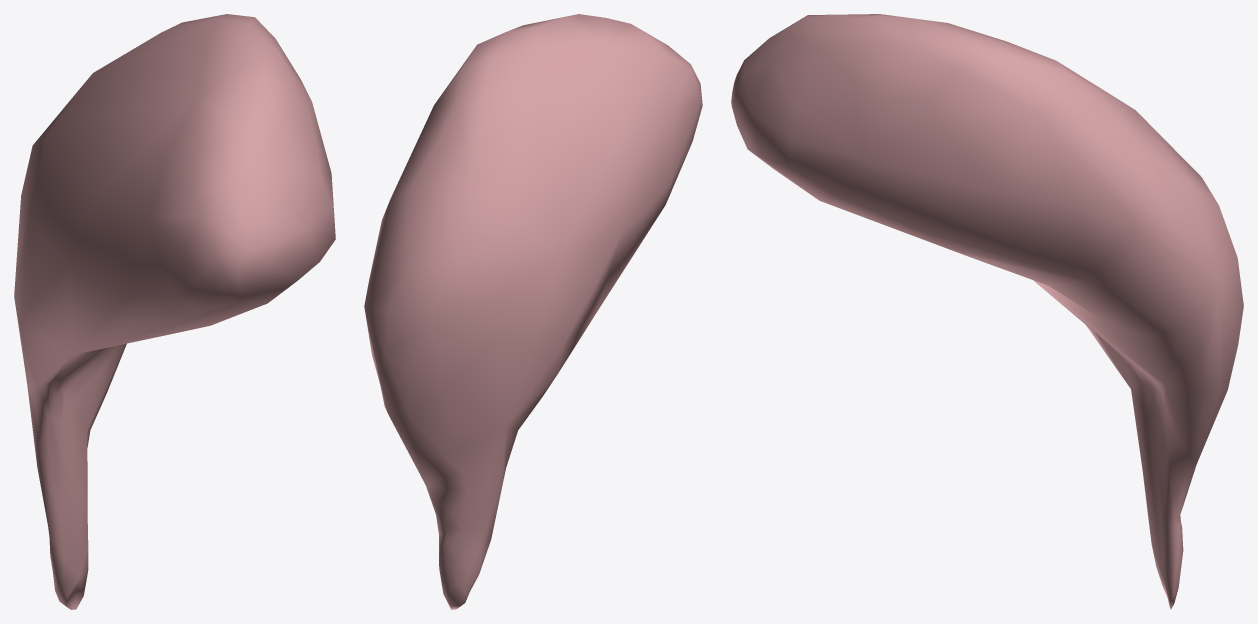
The picture shows the model from 3 angles, left to right: view 1: azimuth 30°, elevation 25°; view 2: azimuth 150°, elevation 25°; view 3: azimuth 270°, elevation 25°; orthographic projection. The views are drawn at different scales.
Parts seen in each view (by area): view 1: ZA_20bc2944df8e0cc2; view 2: ZA_20bc2944df8e0cc2; view 3: ZA_20bc2944df8e0cc2.
Boxes of the visible parts, box(x1,y1,x2,y2) form: ZA_20bc2944df8e0cc2: box(14, 14, 335, 609); ZA_20bc2944df8e0cc2: box(364, 14, 702, 609); ZA_20bc2944df8e0cc2: box(731, 14, 1243, 609).
Bounding box in the file's own units: 0.00897 × 0.0247 × 0.0191.
